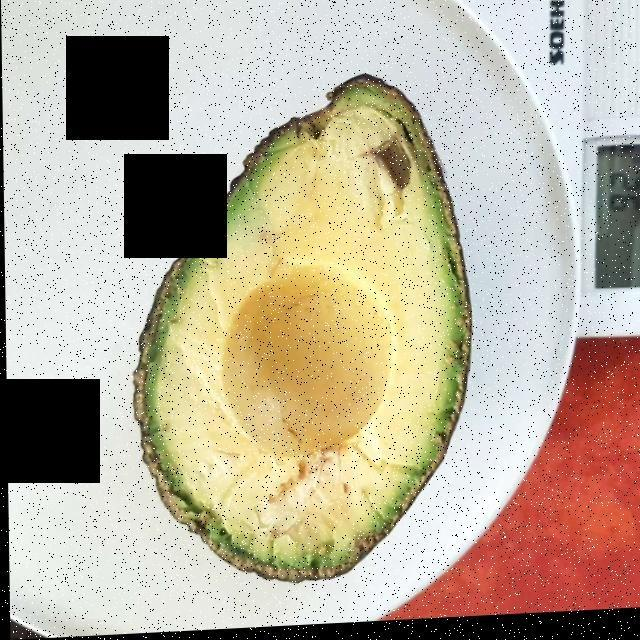avocado: (136, 88, 465, 582)
